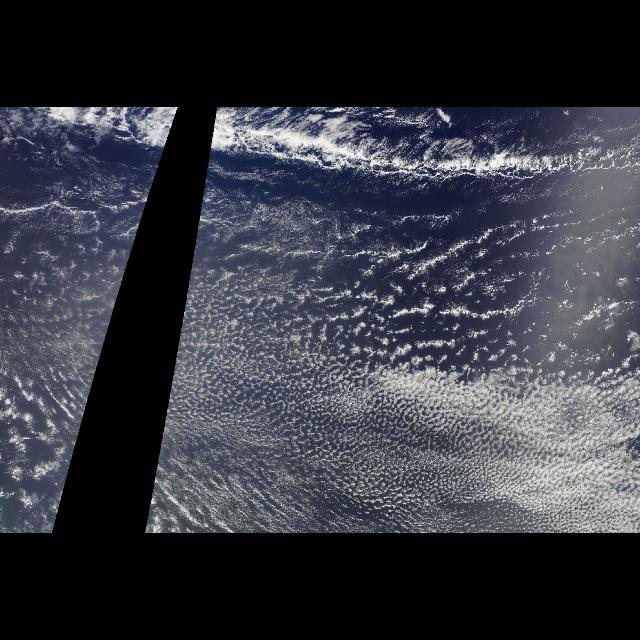Fish: (195, 108, 639, 228), (13, 108, 178, 228)
Flower: (221, 187, 639, 533)
Gravel: (176, 269, 634, 533)
